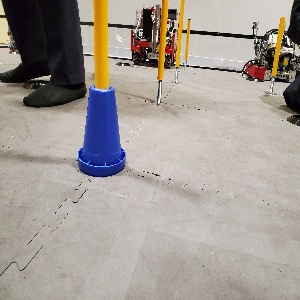Blue_1: (75, 84, 126, 175)
